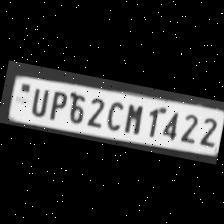1: (140, 102, 164, 138)
2: (176, 108, 202, 144), (195, 112, 220, 147), (82, 92, 106, 128)
4: (158, 106, 182, 141)
6: (62, 88, 89, 124)
C: (101, 96, 126, 132)
M: (119, 100, 146, 134)
P: (44, 86, 68, 120)
U: (25, 82, 51, 116)
